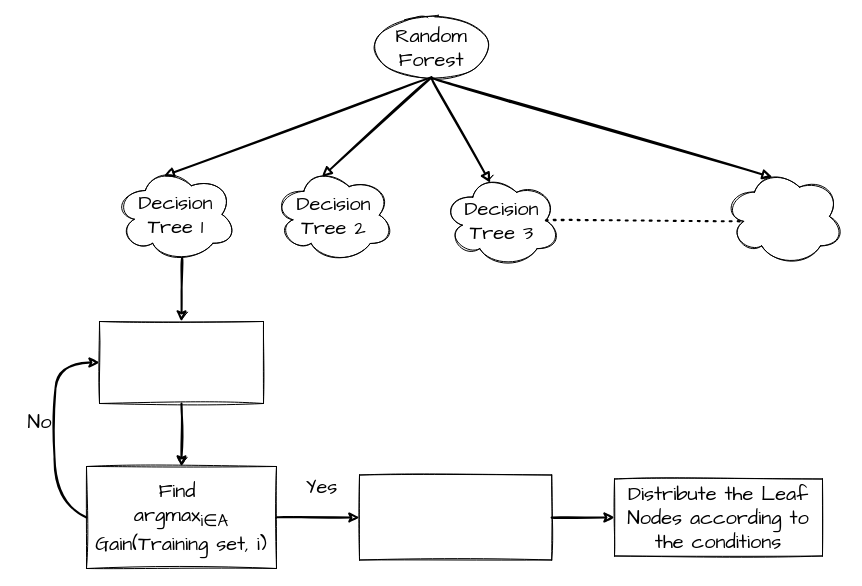
This 862x586 diagram has some shape labels left out. The shapes that lost their labels are listed below. From the top down, each one's box as (x1, y1, x2, y2) in pixels, then its label:
(724, 166, 844, 266): Decision Tree n
(98, 320, 264, 404): Take Input: Bootstrapped Dataset
(358, 474, 552, 560): Mark that relevant node as Root node
